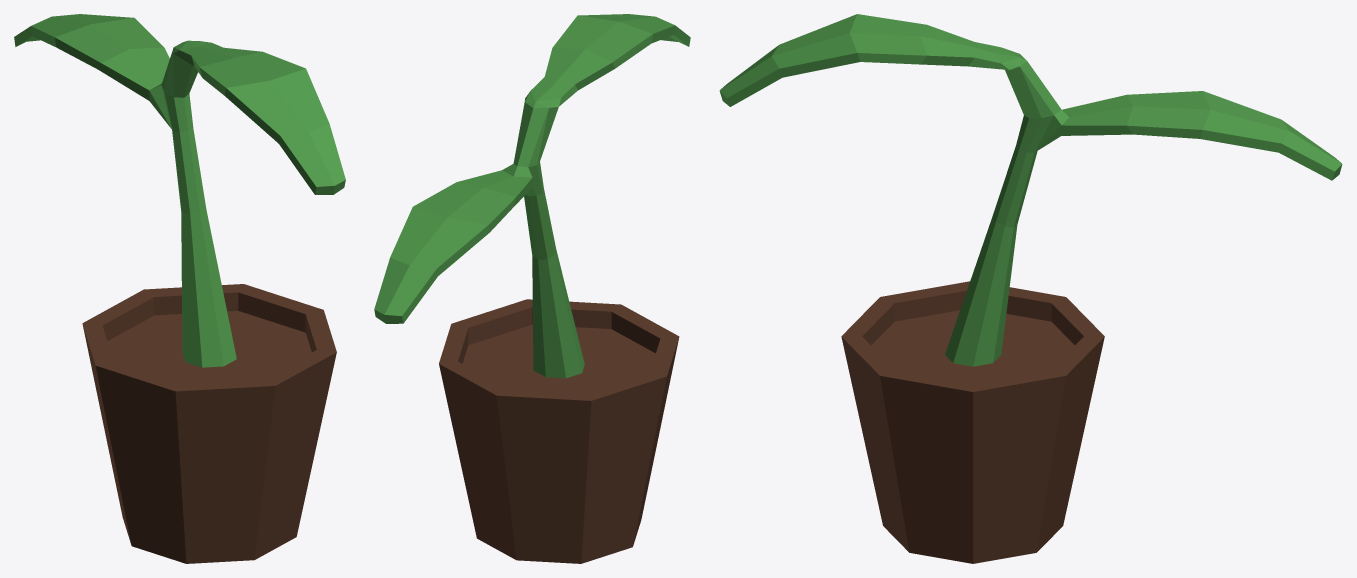
The model's file is Plant.glb.
The picture shows the model from 3 angles, left to right: view 1: azimuth 30°, elevation 25°; view 2: azimuth 150°, elevation 25°; view 3: azimuth 270°, elevation 25°; orthographic projection. The views are drawn at different scales.
Bounding box in the file's own units: 0.1469 × 0.3028 × 0.3474.
